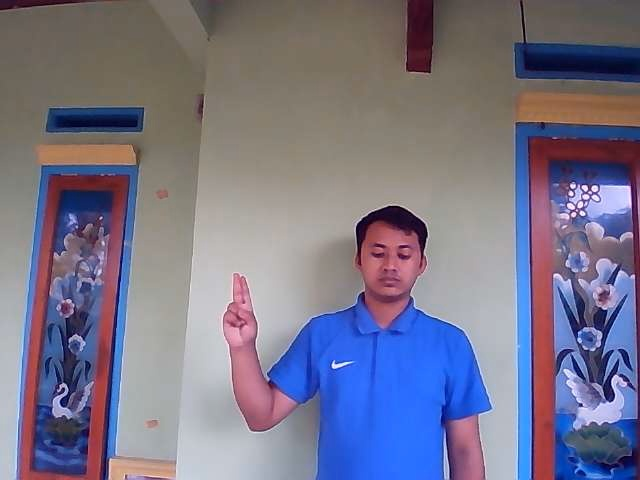U: (222, 272, 258, 347)
